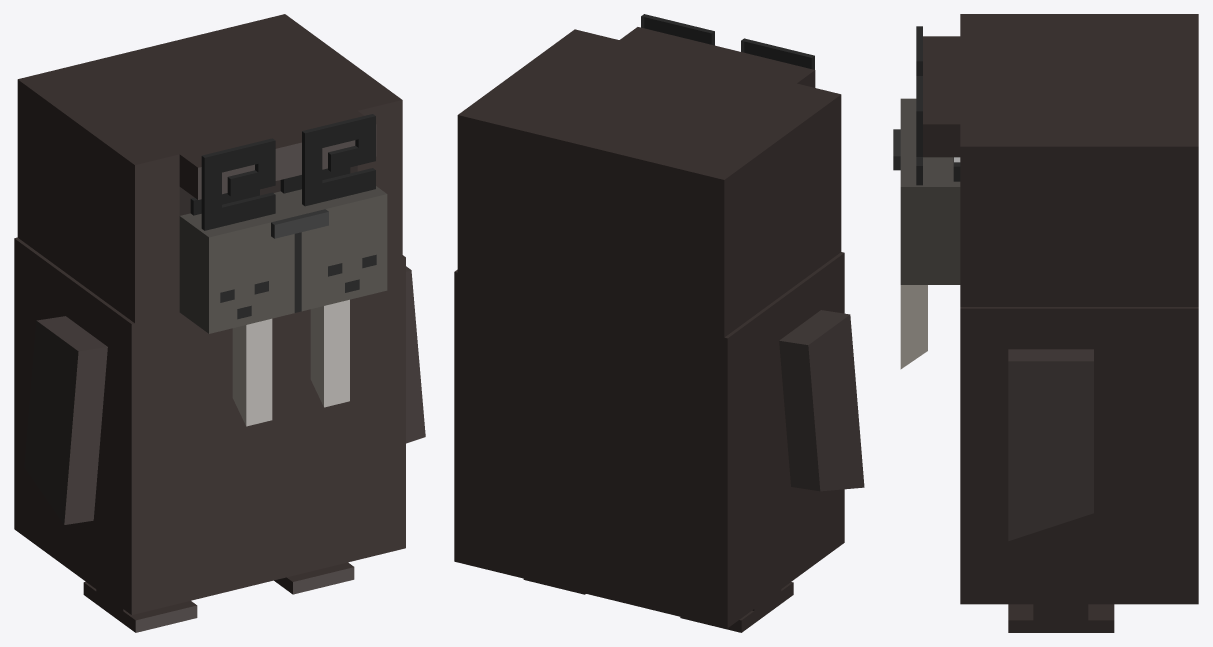
The picture shows the model from 3 angles, left to right: view 1: azimuth 30°, elevation 25°; view 2: azimuth 150°, elevation 25°; view 3: azimuth 270°, elevation 25°; orthographic projection.
Visible parts, largest first — view 1: Ch_186_Head, Ch_186, Ch_186_Arm_L, Ch_186_Eye_03_L, Ch_186_Eye_03_R, Ch_186_Arm_R, Ch_186_Leg_L, Ch_186_Leg_R, Ch_186_Eye_02; view 2: Ch_186, Ch_186_Head, Ch_186_Arm_L, Ch_186_Eye_03_R, Ch_186_Eye_03_L, Ch_186_Leg_L; view 3: Ch_186_Head, Ch_186, Ch_186_Arm_R, Ch_186_Leg_R, Ch_186_Eye_03_R.
Part boxes in pixels (x1,y1,x2,y2): Ch_186_Head: (17,14,402,426); Ch_186: (14,237,405,614); Ch_186_Arm_L: (24,316,107,524); Ch_186_Eye_03_L: (201,138,275,230); Ch_186_Eye_03_R: (302,114,375,206); Ch_186_Arm_R: (406,266,425,443); Ch_186_Leg_L: (83,581,197,632); Ch_186_Leg_R: (274,562,354,594); Ch_186_Eye_02: (190,167,350,215); Ch_186: (454,252,844,628); Ch_186_Head: (457,27,841,337); Ch_186_Arm_L: (779,310,864,491); Ch_186_Eye_03_R: (641,14,714,45); Ch_186_Eye_03_L: (741,38,814,69); Ch_186_Leg_L: (680,582,793,632); Ch_186_Head: (893,14,1198,369); Ch_186: (960,307,1198,604); Ch_186_Arm_R: (1008,349,1093,540); Ch_186_Leg_R: (1008,604,1114,632); Ch_186_Eye_03_R: (916,76,922,185).
Size of the model in its own units: 8.51 by 11.3 by 6.13.
